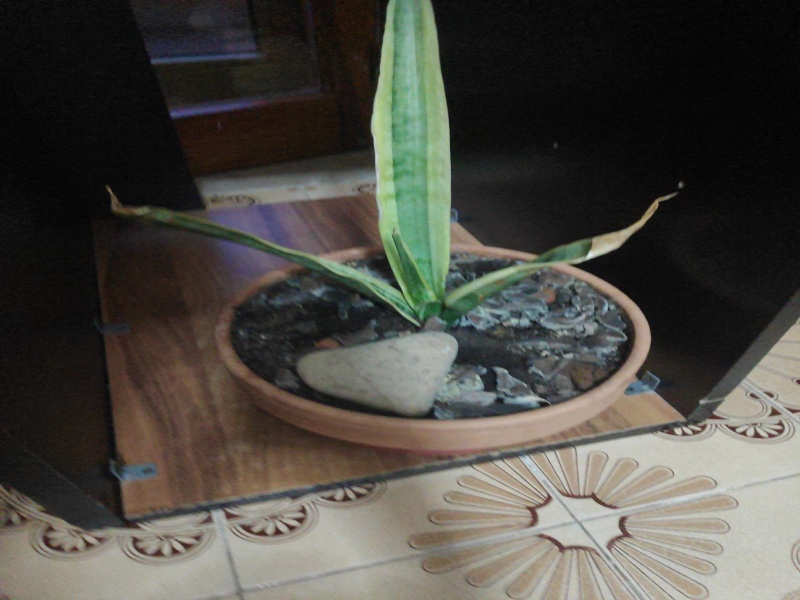plant: (100, 1, 695, 463)
